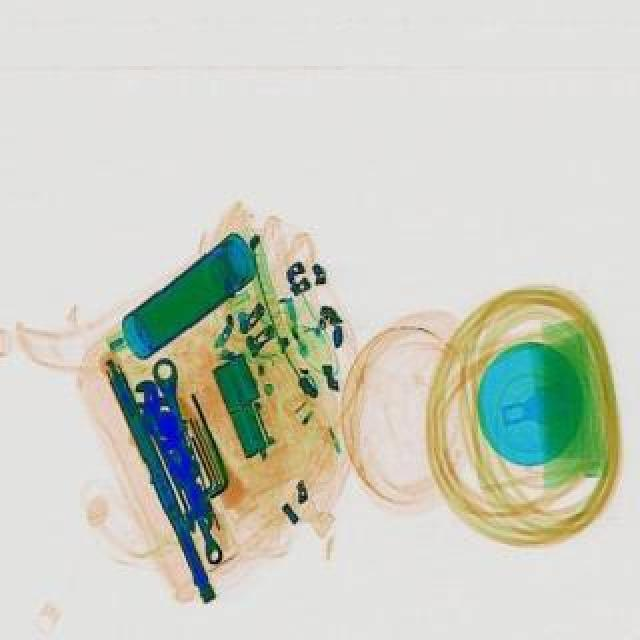scissors: (130, 374, 226, 564)
